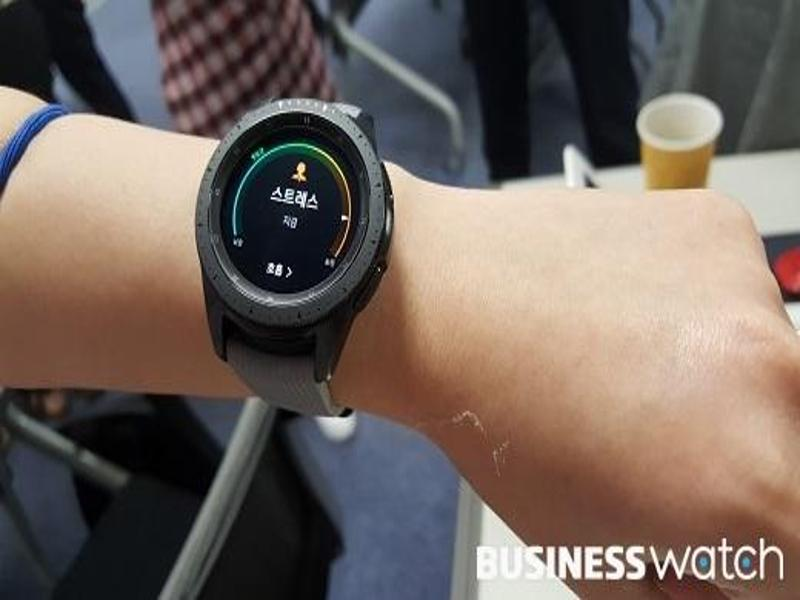watch: (190, 96, 402, 426)
